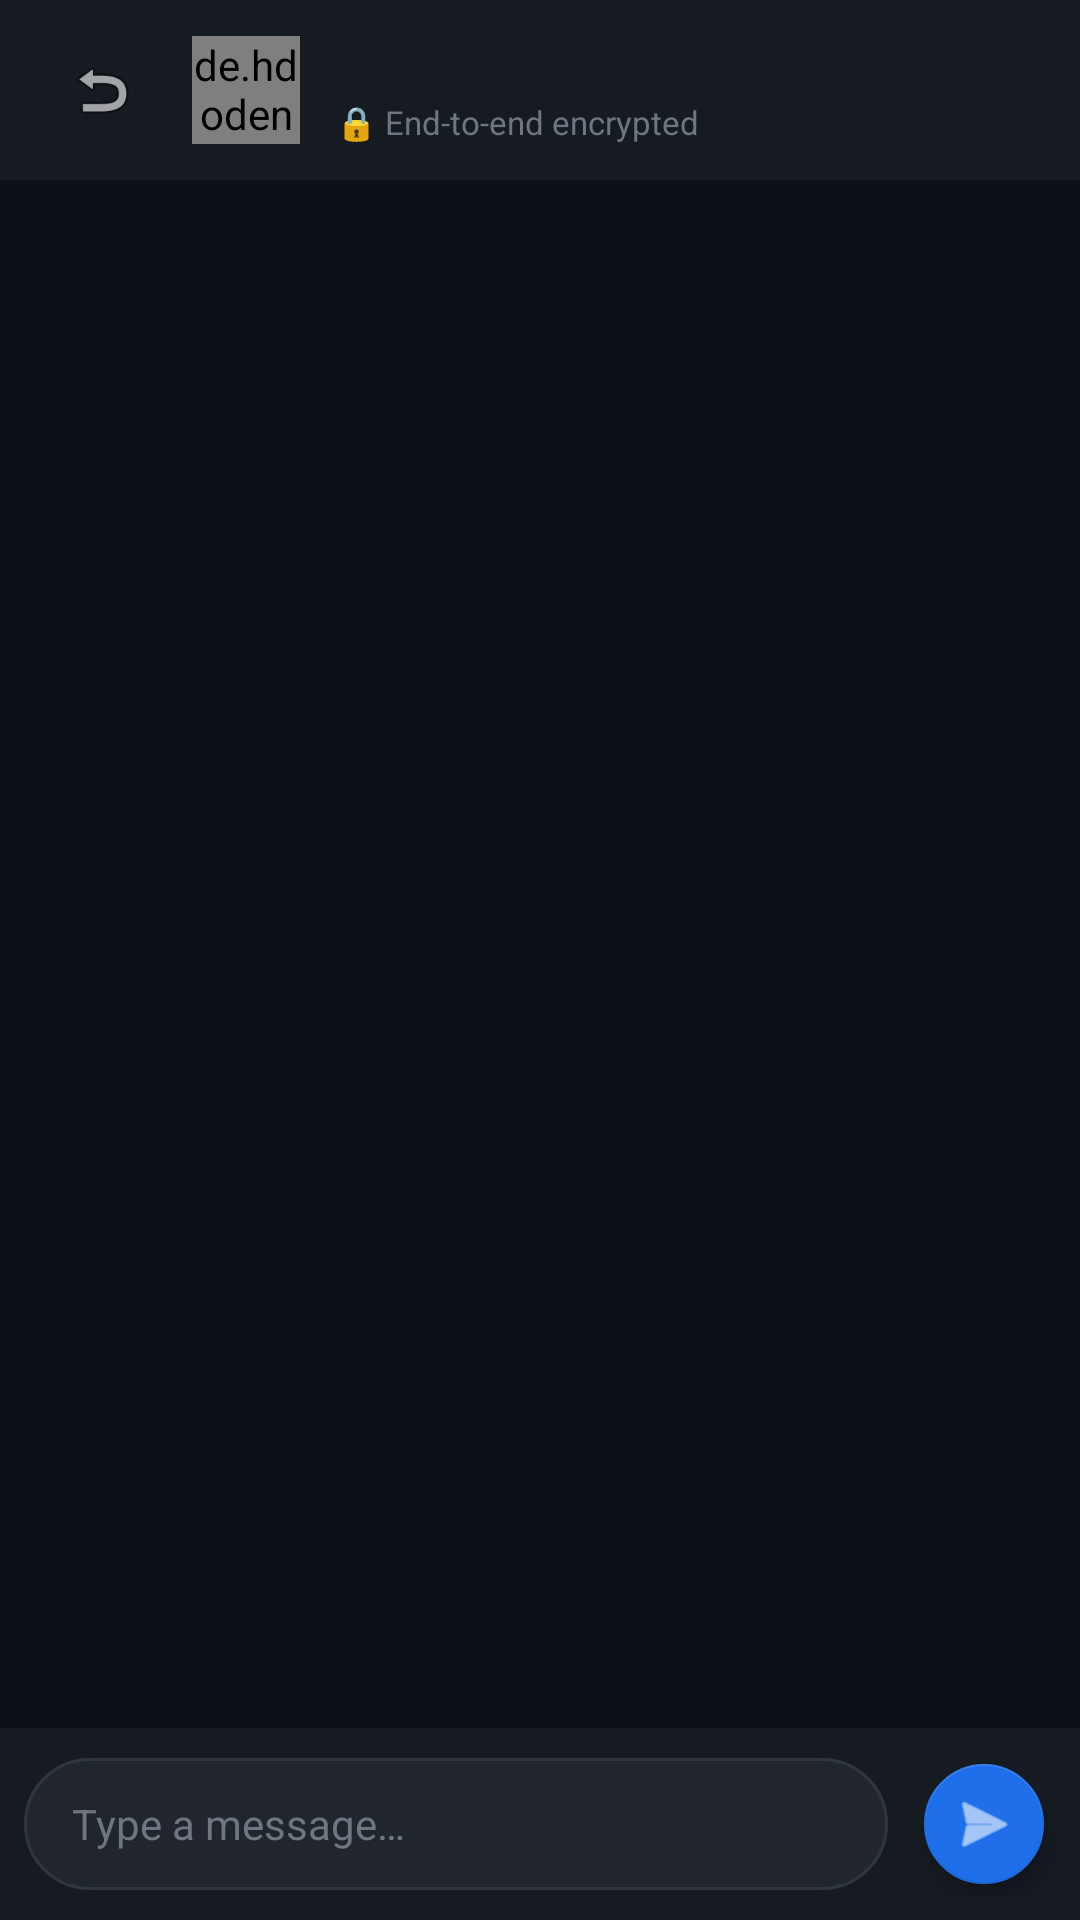

Screen size 1080 x 1920. Icon name, then its center in pixels as point (x, y):
Back: point (103, 90)
send: point (984, 1824)
